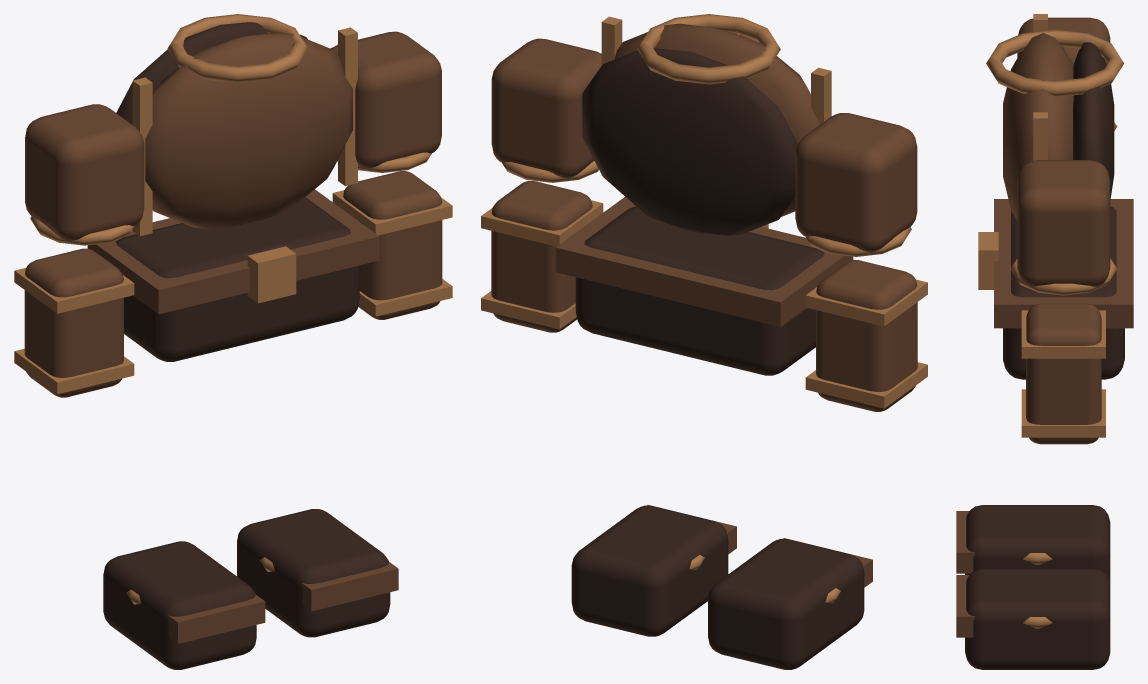
Rendered from armor-leather.glb.
3 views of the same model, side by side, from view 1: azimuth 30°, elevation 25°; view 2: azimuth 150°, elevation 25°; view 3: azimuth 270°, elevation 25° (orthographic). The views are drawn at different scales.
Visible parts, largest first — view 1: leather-cuirass-front, leather-boot (×2), leather-shoulder-wrap (×2), leather-waist, leather-bracer (×2), leather-belt, bracer-strap (×4), boot-toe-cap (×2), leather-neck-collar, leather-cuirass-back, belt-buckle, leather-side-strap-right (+2 smaller); view 2: leather-boot (×2), leather-cuirass-back, leather-shoulder-wrap (×2), leather-waist, leather-bracer (×2), leather-belt, bracer-strap (×4), leather-cuirass-front, leather-neck-collar, shoulder-wrap-edge (×2), leather-side-strap-left, leather-side-strap-right; view 3: leather-boot (×2), leather-shoulder-wrap (×2), leather-bracer, leather-cuirass-front, leather-belt, leather-cuirass-back, leather-neck-collar, leather-waist, bracer-strap (×2), boot-toe-cap (×2), belt-buckle, shoulder-wrap-edge (+1 smaller).
Boxes of the visible parts, box(x1,y1,x2,y2) form: leather-cuirass-front: box(145, 32, 352, 229); leather-boot (×2): box(103, 509, 390, 669); leather-shoulder-wrap (×2): box(25, 31, 441, 241); leather-waist: box(116, 197, 359, 361); leather-bracer (×2): box(24, 171, 442, 397); leather-belt: box(87, 189, 379, 314); bracer-strap (×4): box(14, 190, 452, 394); boot-toe-cap (×2): box(168, 562, 398, 643); leather-neck-collar: box(167, 14, 308, 82); leather-cuirass-back: box(116, 22, 307, 124); belt-buckle: box(247, 246, 296, 303); leather-side-strap-right: box(338, 27, 357, 186); leather-boot (×2): box(571, 505, 864, 669); leather-cuirass-back: box(582, 48, 797, 235); leather-shoulder-wrap (×2): box(491, 38, 917, 252); leather-waist: box(575, 206, 824, 375); leather-bracer (×2): box(491, 181, 917, 411); leather-belt: box(555, 197, 853, 326); bracer-strap (×4): box(481, 200, 927, 408); leather-cuirass-front: box(614, 23, 819, 216); leather-neck-collar: box(637, 14, 780, 84); shoulder-wrap-edge (×2): box(502, 161, 911, 256); leather-side-strap-left: box(811, 67, 831, 124); leather-side-strap-right: box(601, 16, 622, 175); leather-boot (×2): box(965, 505, 1110, 669); leather-shoulder-wrap (×2): box(1017, 17, 1110, 286); leather-bracer: box(1026, 303, 1101, 444); leather-cuirass-front: box(1003, 33, 1073, 220); leather-belt: box(994, 199, 1133, 328); leather-cuirass-back: box(1073, 42, 1114, 199); leather-neck-collar: box(986, 29, 1123, 96); leather-waist: box(1003, 206, 1124, 379); bracer-strap (×2): box(1021, 310, 1105, 437); boot-toe-cap (×2): box(956, 511, 974, 637); belt-buckle: box(978, 232, 998, 289); shoulder-wrap-edge: box(1010, 258, 1116, 295).
Bounding box in the file's own units: 0.77 × 1.09 × 0.305.
